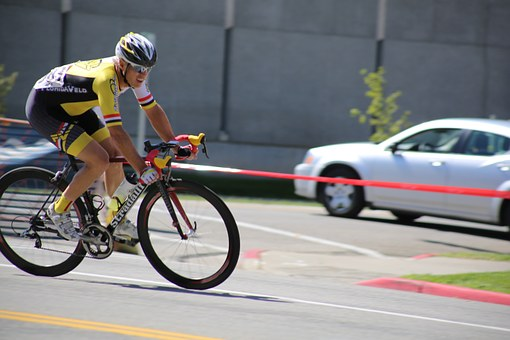bikerider: (1, 30, 244, 305)
